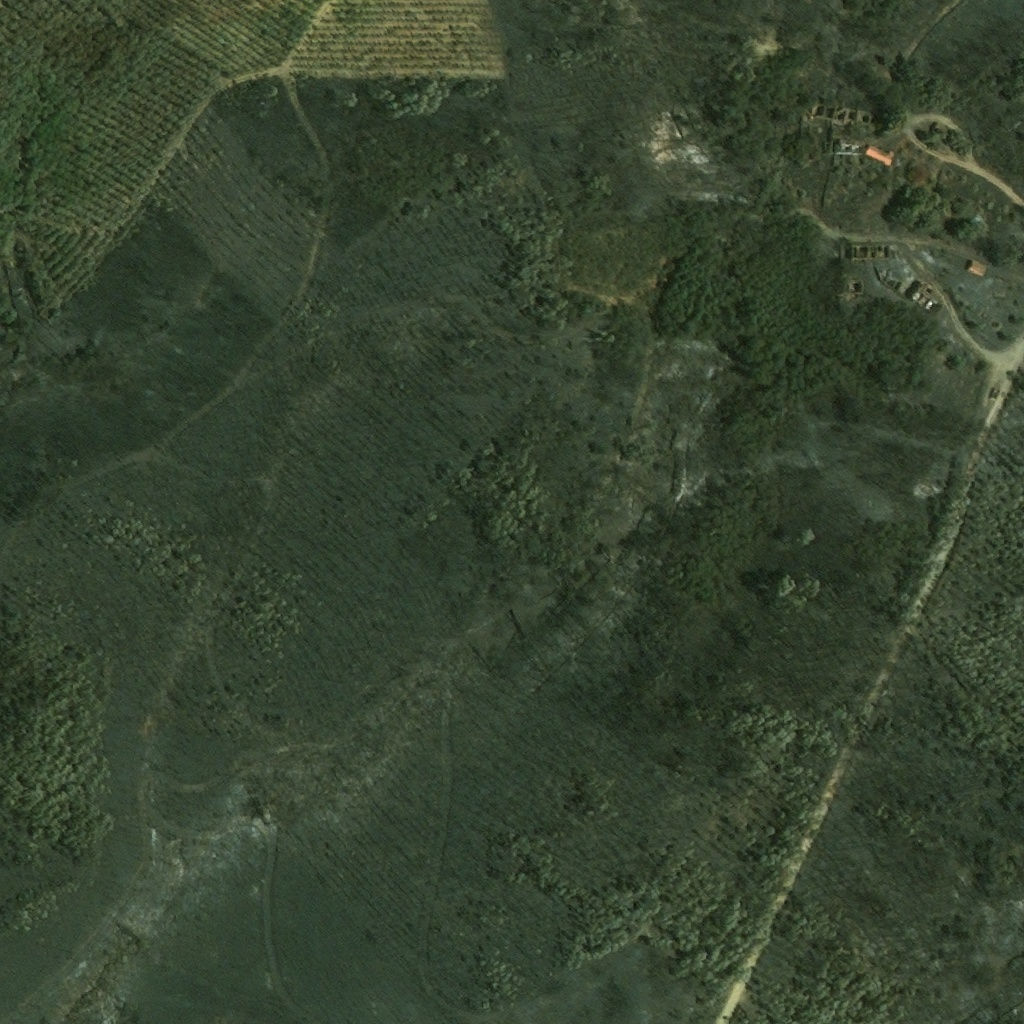0 no-damage: (865, 145, 892, 167), (967, 260, 983, 276)
3 destroyed: (911, 285, 937, 311), (835, 141, 864, 155)
